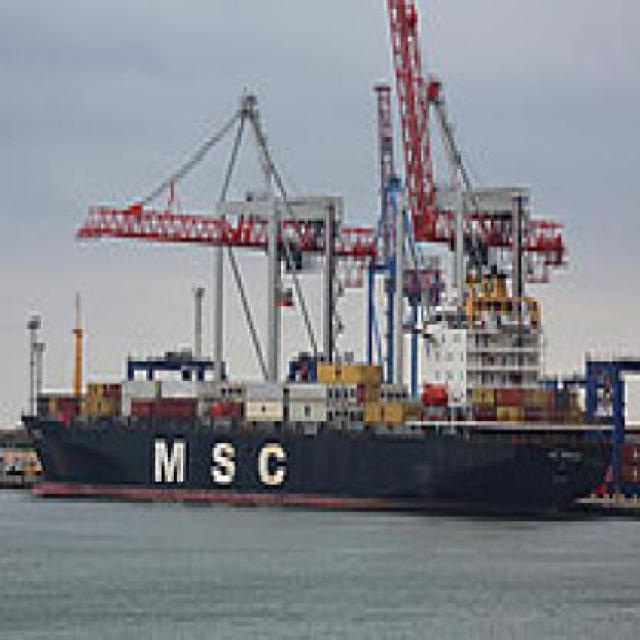container: (17, 321, 620, 523)
